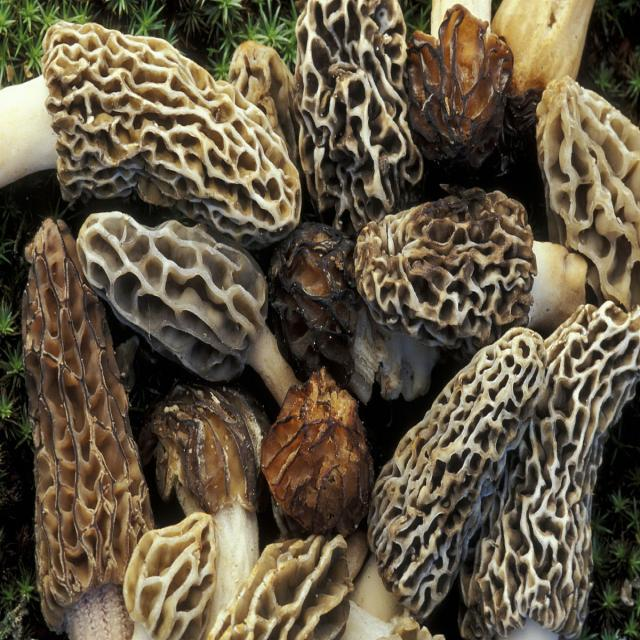Morchella esculenta: (0, 24, 302, 240), (475, 300, 640, 640), (360, 338, 548, 632), (23, 217, 152, 640), (78, 209, 304, 419), (354, 180, 591, 329), (123, 510, 227, 640)
